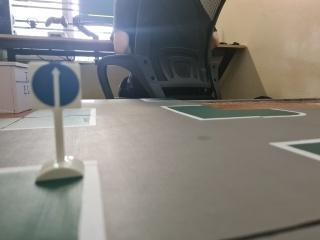straight: (28, 61, 82, 111)
